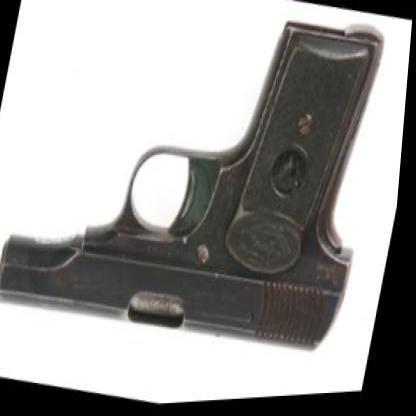pistol: (0, 0, 405, 382)
